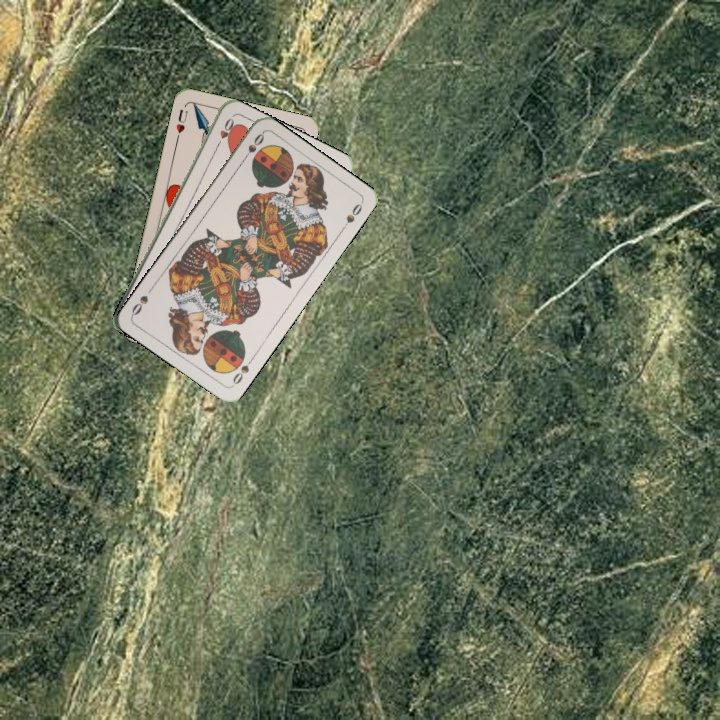HO: (212, 114, 236, 151)
HU: (172, 105, 190, 142)
SO: (238, 129, 267, 165), (228, 353, 256, 389)
